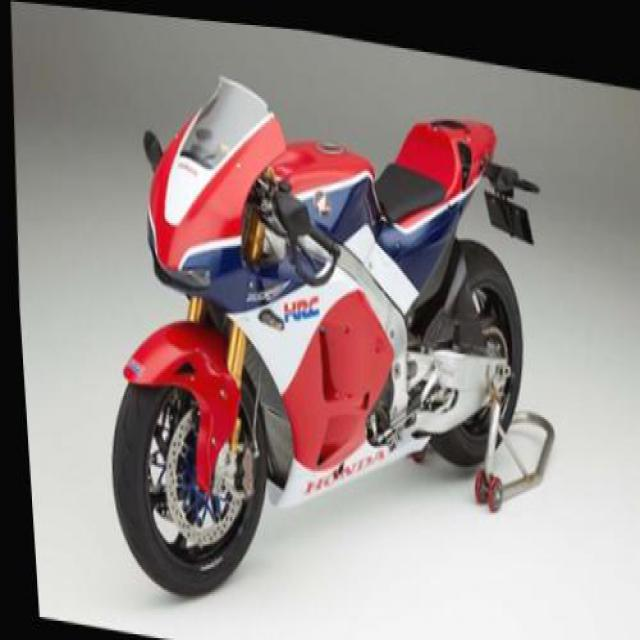HRC RCV 213: (80, 42, 572, 638)
